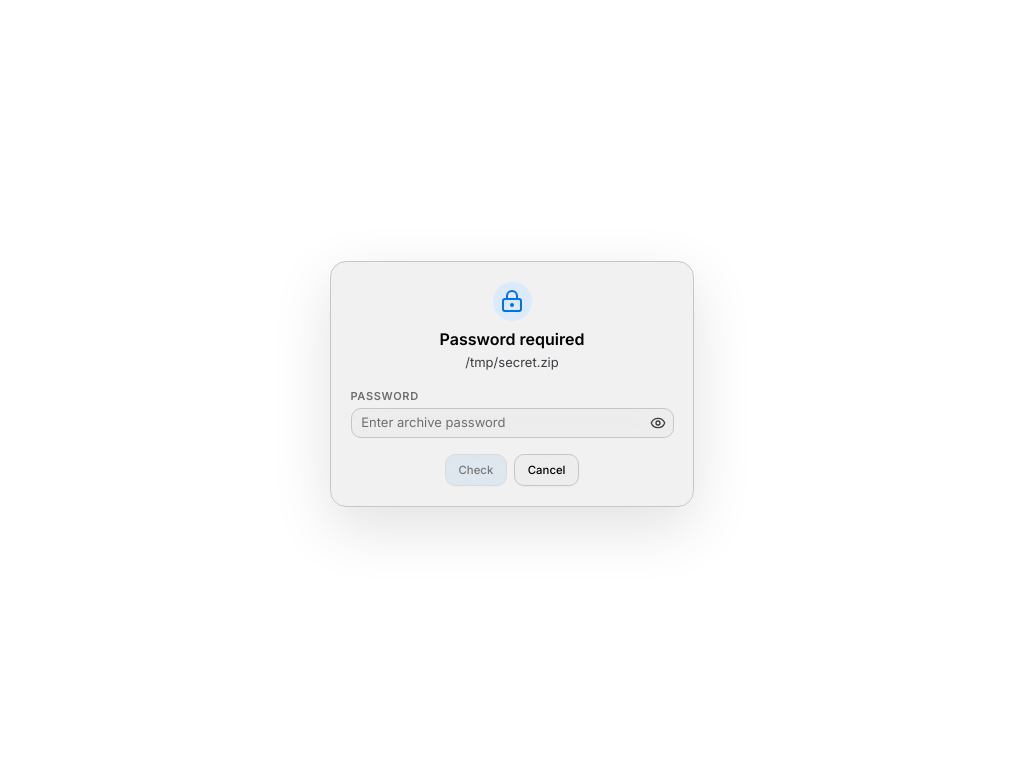
Test: PasswordDialog › should_surface_non_password_errors
The width and height of the screenshot is (1024, 768).
Type "pw" into the password field labelled "Password" at (499, 423), box [352, 413, 646, 433]
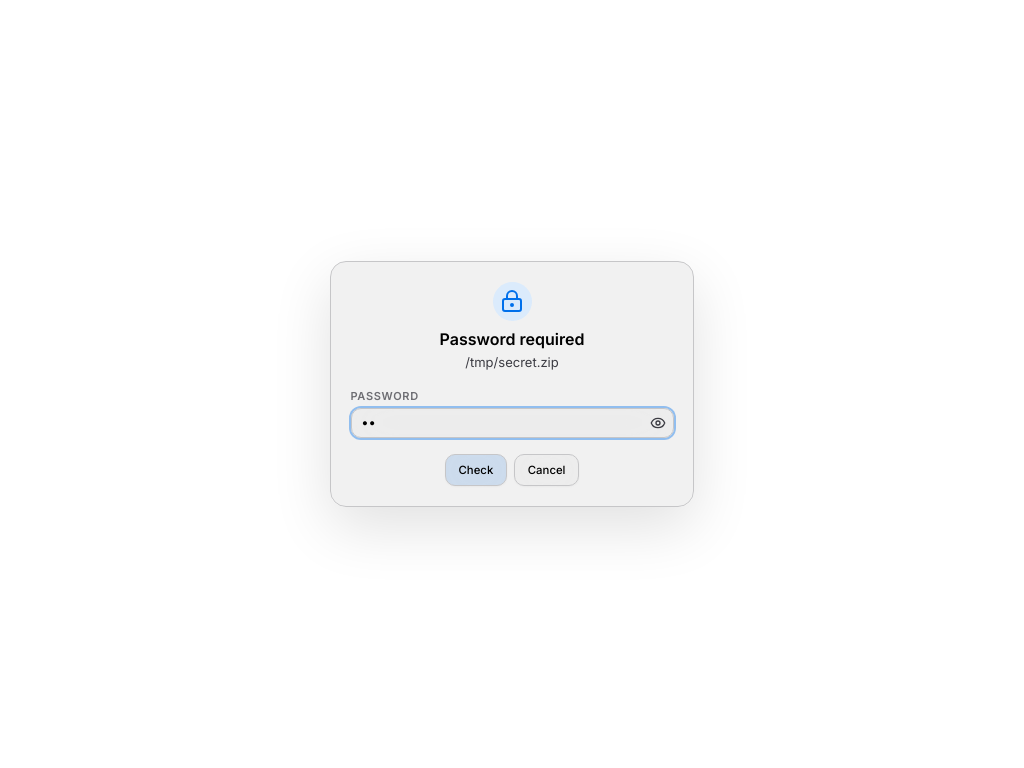
Click the button "Check" at (476, 470), box [444, 454, 507, 486]
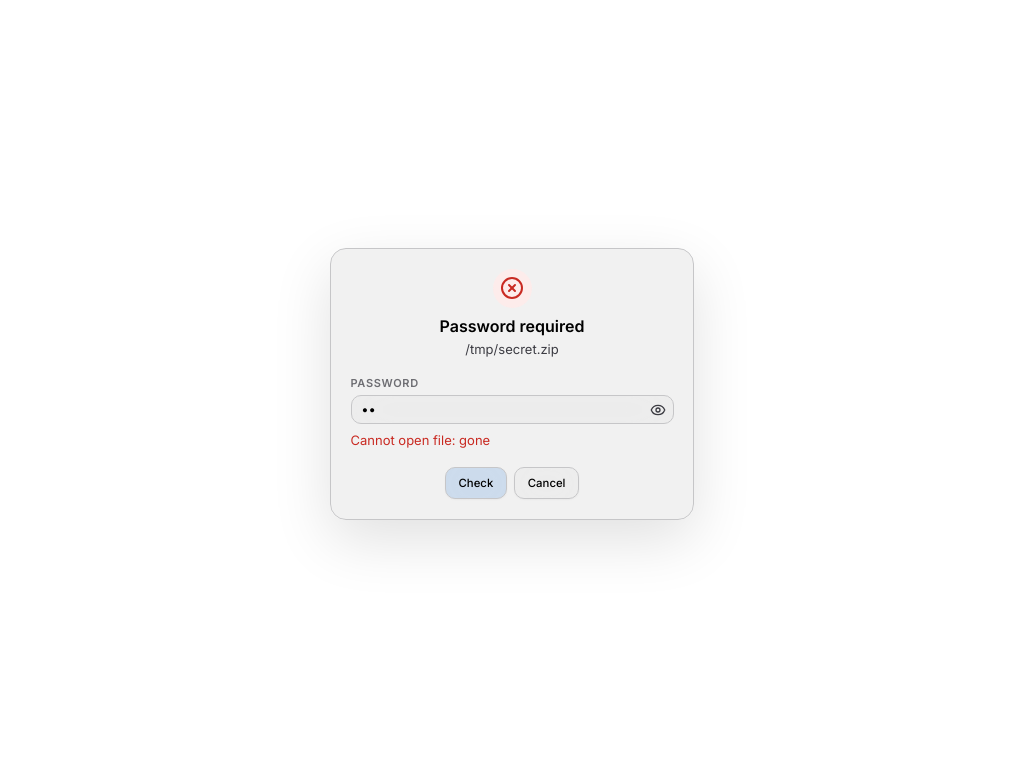
expect the text "Cannot open file: gone" is shown: met, box [350, 432, 490, 448]
